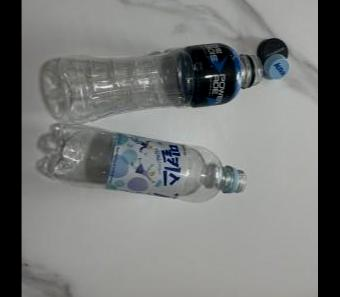bottle: (40, 42, 262, 125), (38, 122, 248, 202)
